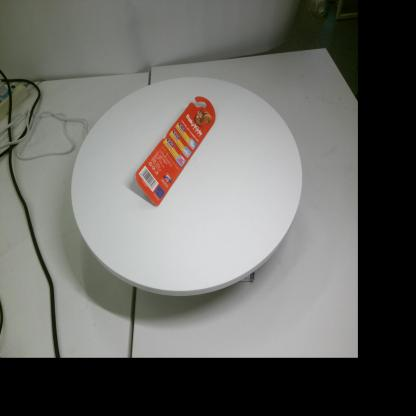Personal Hygiene: (134, 96, 216, 207)
